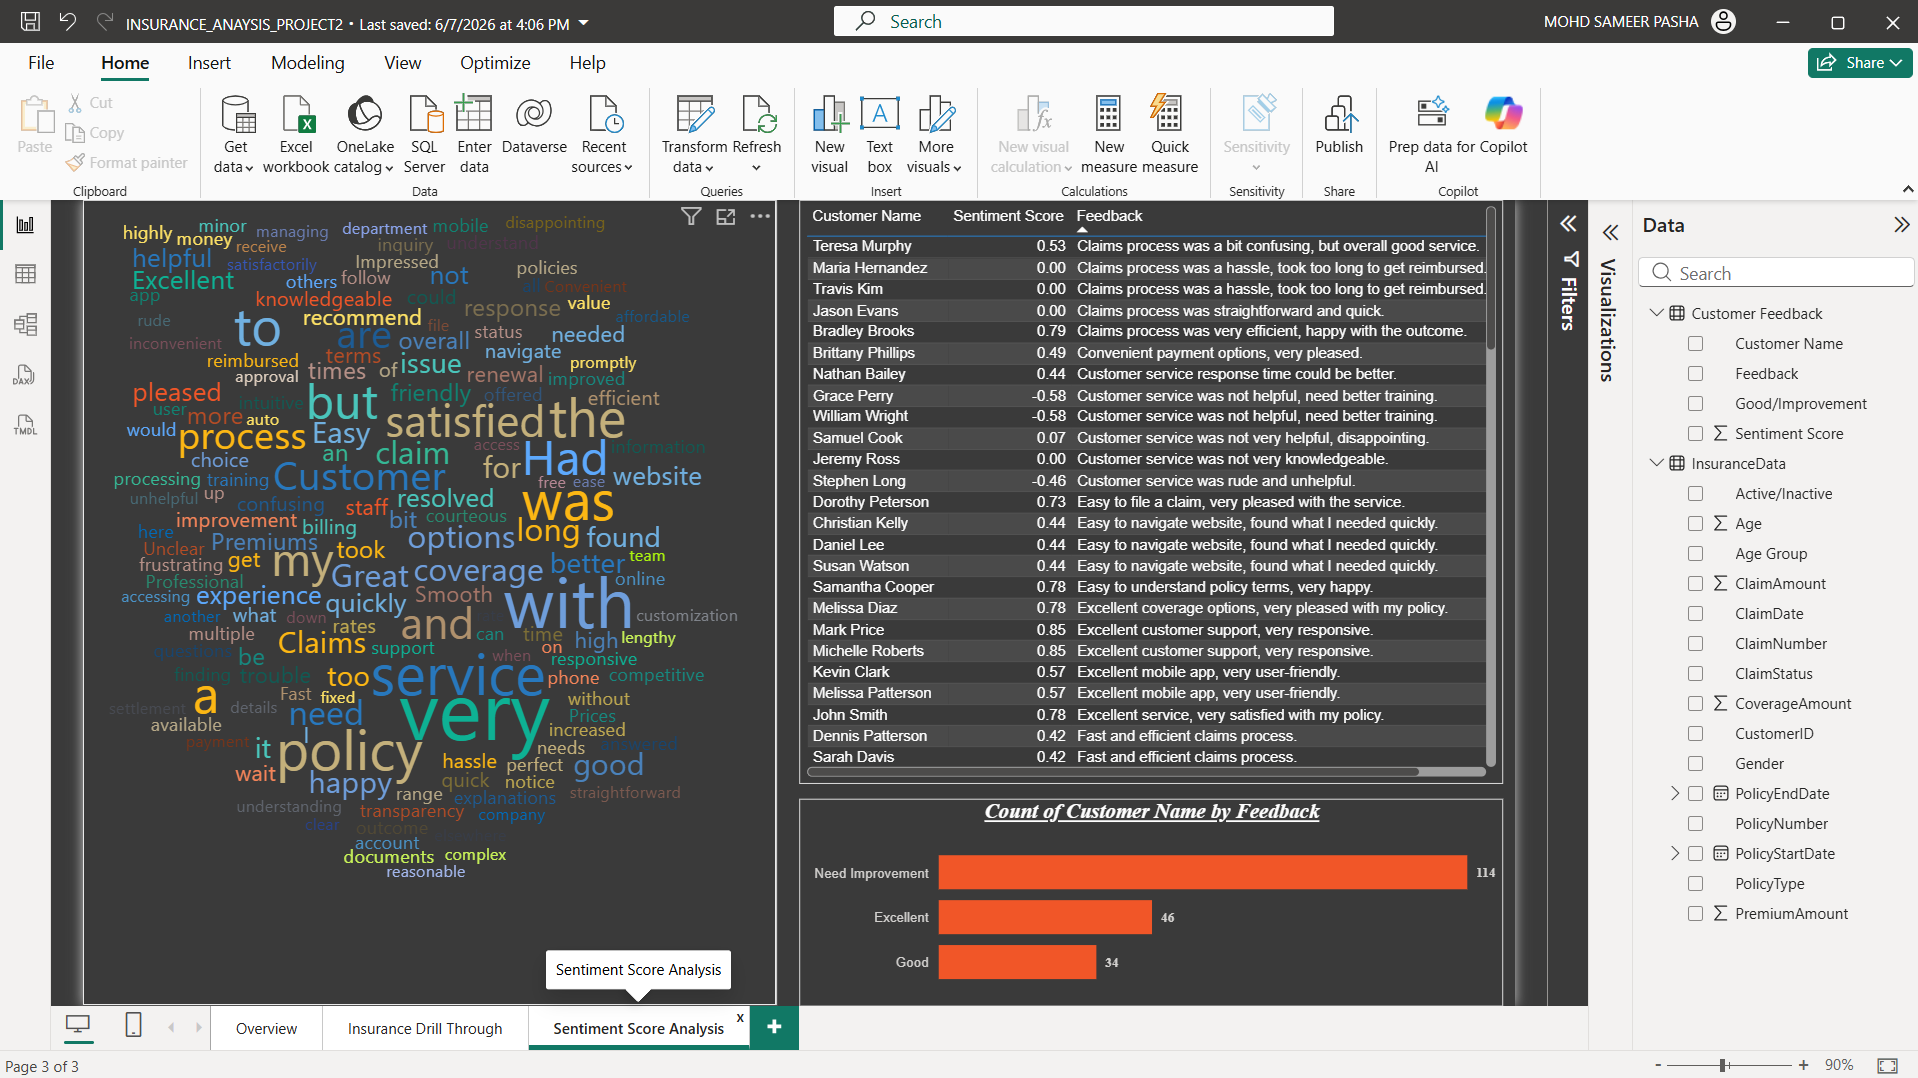

The page's visual inventory and layout, read from the dashboard file:
{"tool":"powerbi","page":{"name":"Sentiment Score Analysis","canvas":[1280,720],"ordinal":2},"visuals":[{"type":"WordCloud1447959067750","fields":{"Category":["Customer Feedback.Feedback"],"Values":["CountNonNull(Customer Feedback.Feedback)"]},"box":[0,0,620.2,719],"z":0},{"type":"barChart","title":"Count of Customer Name by Feedback","fields":{"Y":["CountNonNull(Customer Feedback.Customer Name)"],"Category":["Customer Feedback.Good/Improvement"]},"box":[639.5,535.2,628.5,185.2],"z":1},{"type":"tableEx","fields":{"Values":["Customer Feedback.Customer Name","Customer Feedback.Sentiment Score","Customer Feedback.Feedback"]},"box":[639.5,0,628.5,521.4],"z":2}]}

Visuals, with their boxes on the page's 1280x720 design canvas (x1, y1, x2, y2). These are canvas units, not pixel positions in the 1918x1078 screenshot, which may show the page scaled, cropped or inside an application window:
WordCloud1447959067750 - Customer Feedback.Feedback x CountNonNull(Customer Feedback.Feedback): locate(0, 0, 620, 719)
"Count of Customer Name by Feedback" barChart: locate(640, 535, 1268, 720)
tableEx - Customer Feedback.Customer Name x Customer Feedback.Sentiment Score: locate(640, 0, 1268, 521)
